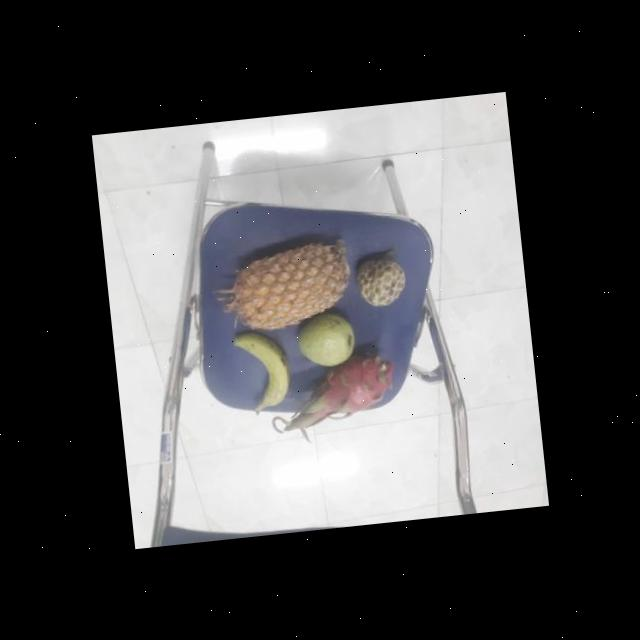Sakya fruit: (351, 253, 406, 308)
banana: (232, 329, 294, 412)
guava: (292, 308, 358, 368)
pineapple: (217, 236, 355, 334)
pitaya: (301, 348, 394, 419)
